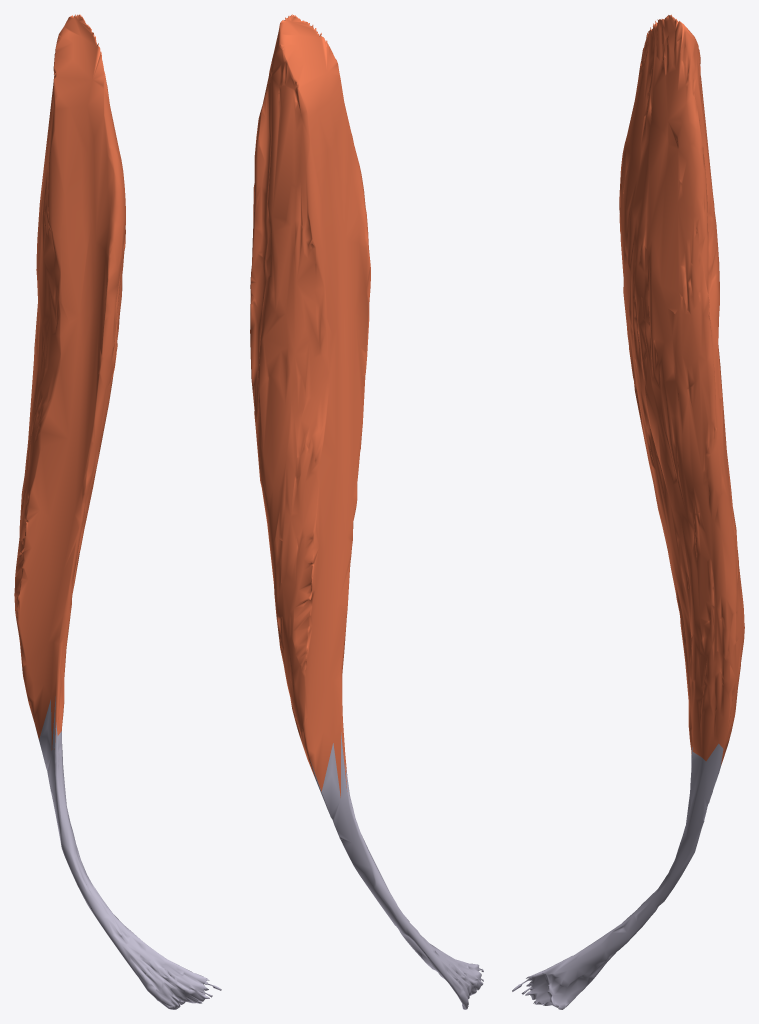
Rendered from Tibialis_anterior_left.glb.
3 views of the same model, side by side, from view 1: azimuth 90°, elevation 25°; view 2: azimuth 150°, elevation 25°; view 3: azimuth 270°, elevation 25° (orthographic). The views are drawn at different scales.
Visible parts, largest first — view 1: Tibialis_anterior_muscle.l_Generated_Mesh_From_X3D.154; view 2: Tibialis_anterior_muscle.l_Generated_Mesh_From_X3D.154; view 3: Tibialis_anterior_muscle.l_Generated_Mesh_From_X3D.154.
Boxes of the visible parts, x1,y1,x2,y2 form: Tibialis_anterior_muscle.l_Generated_Mesh_From_X3D.154: [14, 14, 221, 1009]; Tibialis_anterior_muscle.l_Generated_Mesh_From_X3D.154: [250, 14, 483, 1009]; Tibialis_anterior_muscle.l_Generated_Mesh_From_X3D.154: [512, 14, 744, 1009].
Size of the model in its own units: 0.0609 by 0.3688 by 0.0736.
